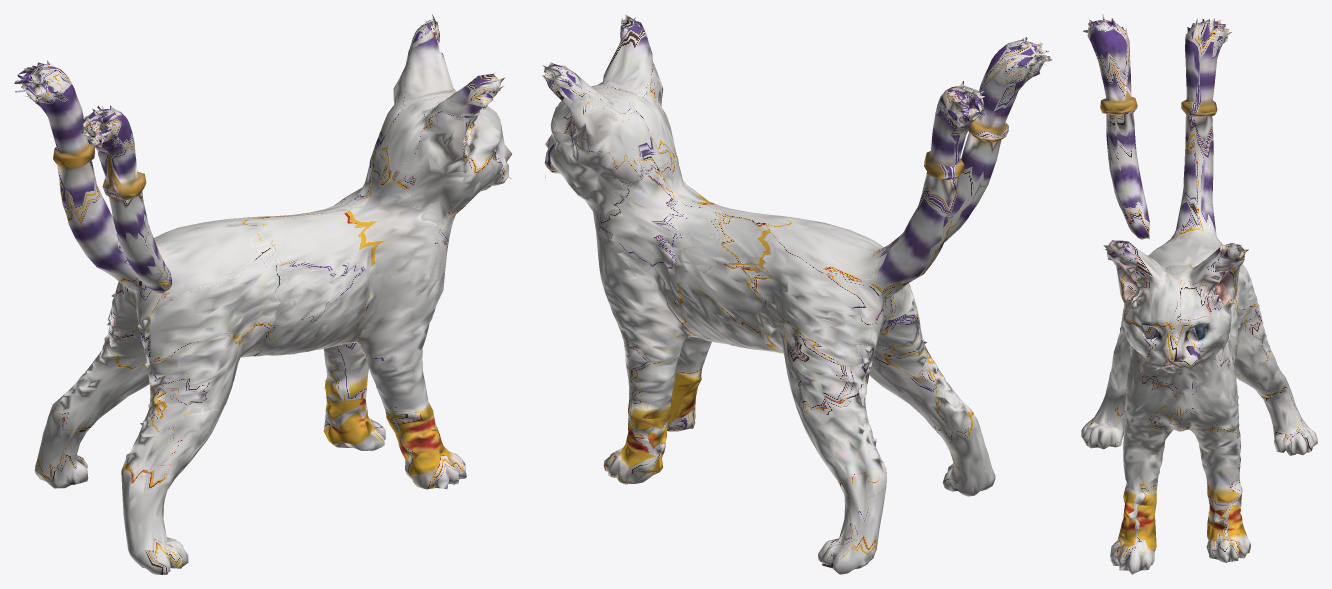
File: GATOMON-lo.glb
3 renders of one model, left to right at view 1: azimuth 30°, elevation 25°; view 2: azimuth 150°, elevation 25°; view 3: azimuth 270°, elevation 25°, orthographic. The views are drawn at different scales.
Visible parts, largest first — view 1: tripo_node_0f9b8529-5ce1-4f11-9c19-ae236f4b0096; view 2: tripo_node_0f9b8529-5ce1-4f11-9c19-ae236f4b0096; view 3: tripo_node_0f9b8529-5ce1-4f11-9c19-ae236f4b0096.
Boxes of the visible parts, x1,y1,x2,y2 form: tripo_node_0f9b8529-5ce1-4f11-9c19-ae236f4b0096: (14,14,511,574); tripo_node_0f9b8529-5ce1-4f11-9c19-ae236f4b0096: (542,14,1052,574); tripo_node_0f9b8529-5ce1-4f11-9c19-ae236f4b0096: (1081,14,1317,574).
Size of the model in its own units: 1.04 by 0.9986 by 0.5281.
Materials: 1 (1 with a texture image).
